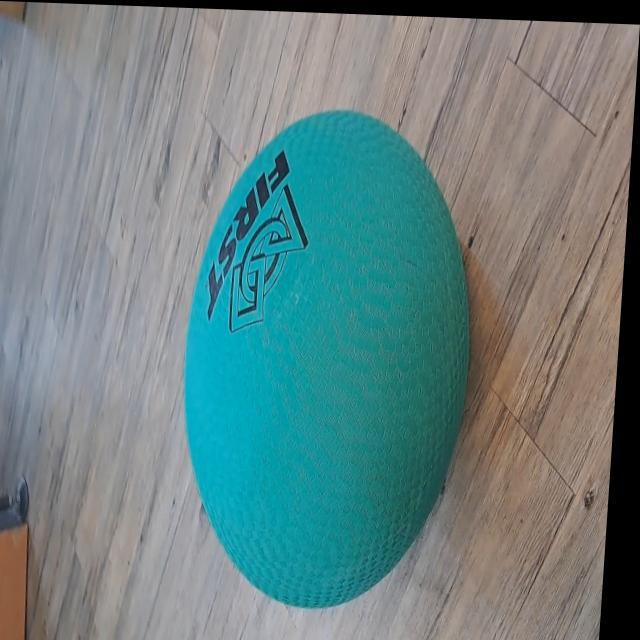ALGAE: (166, 102, 488, 616)
